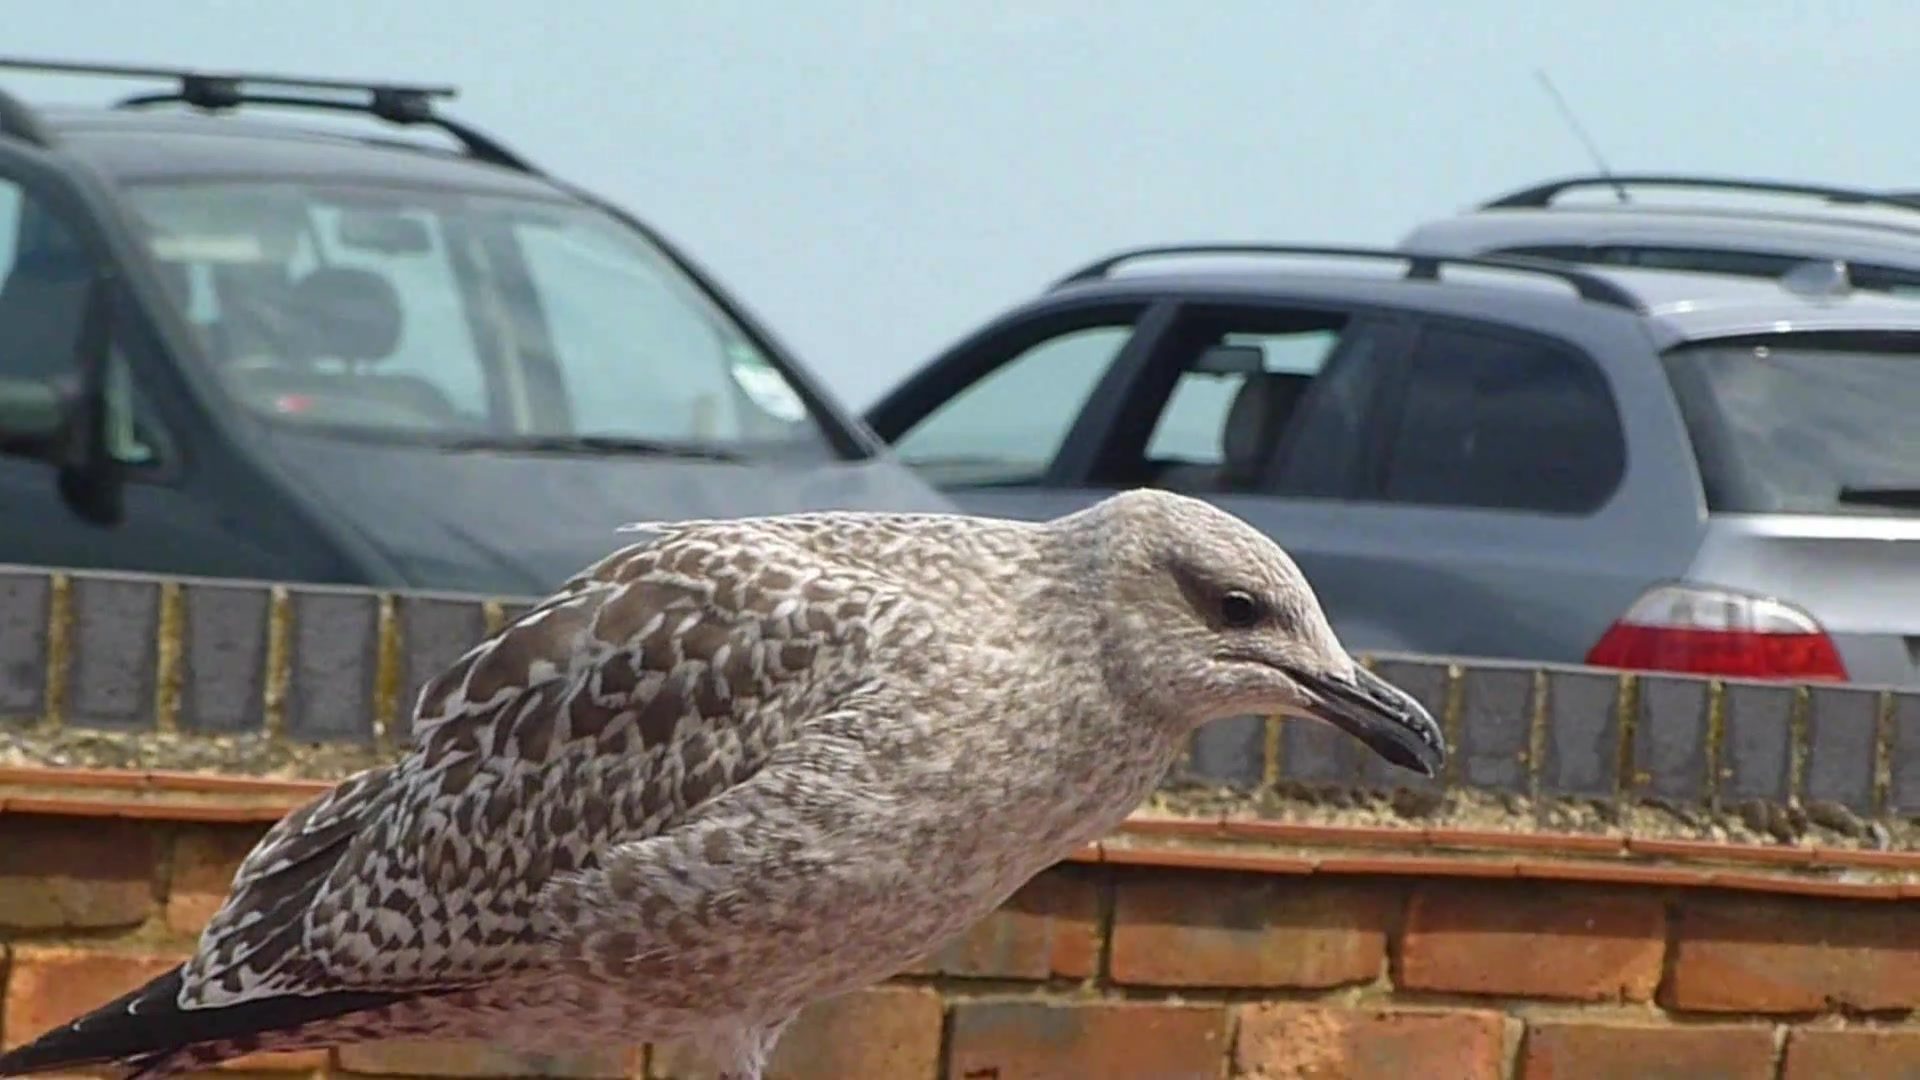bird: (5, 487, 1451, 1077)
